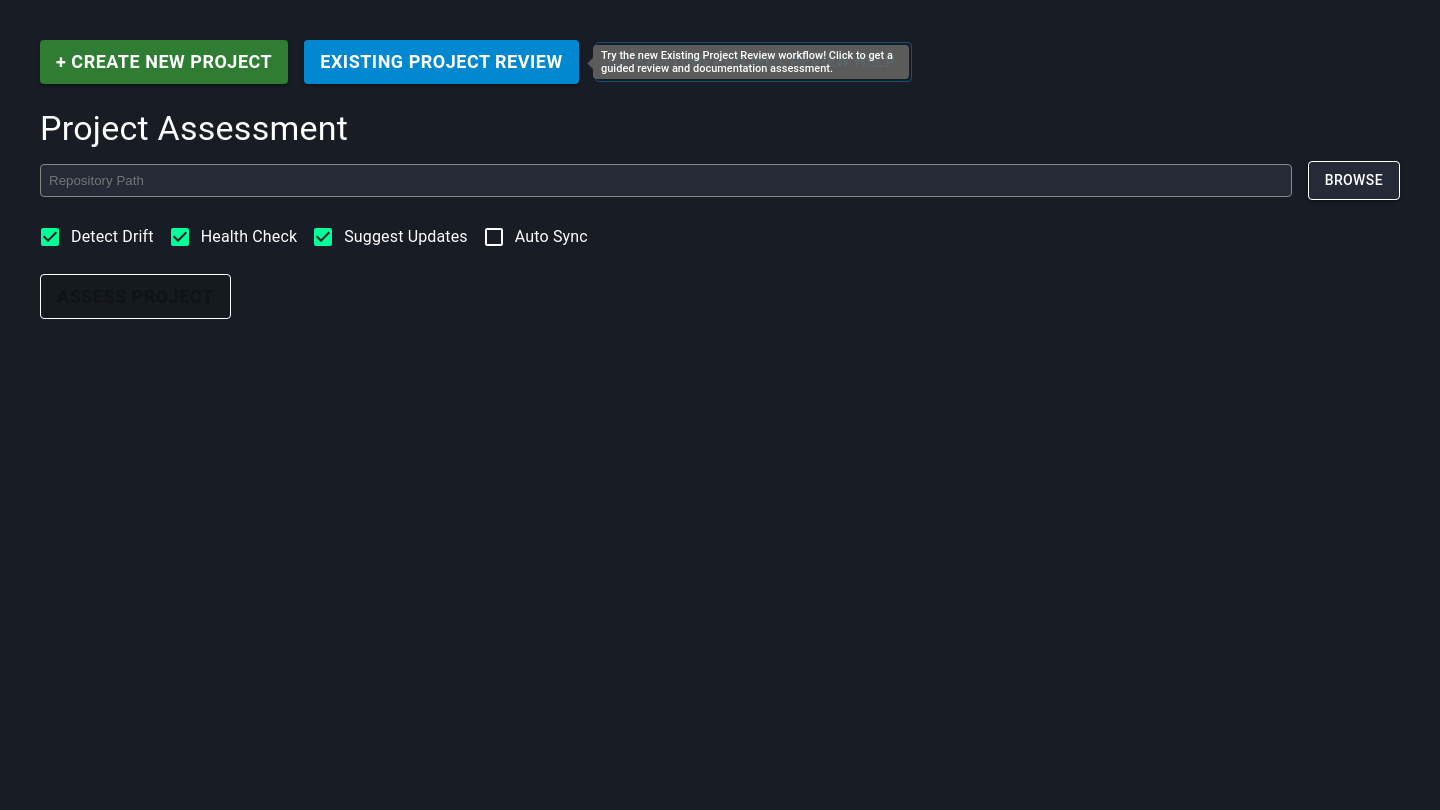
Test: App UI › shows onboarding tooltip for Existing Project Review button and hides after click
This screenshot has width=1440, height=810.
Expected: the text "Try the new Existing Project Review workflow" is shown, [601,49,893,75]
# Click the button (should hide tooltip)
What coordinates should you click on to do the following:
click the button with test id "open-existing-project-review-btn"
I would click on:
 (442, 62)
Its box is [304,40,579,84].
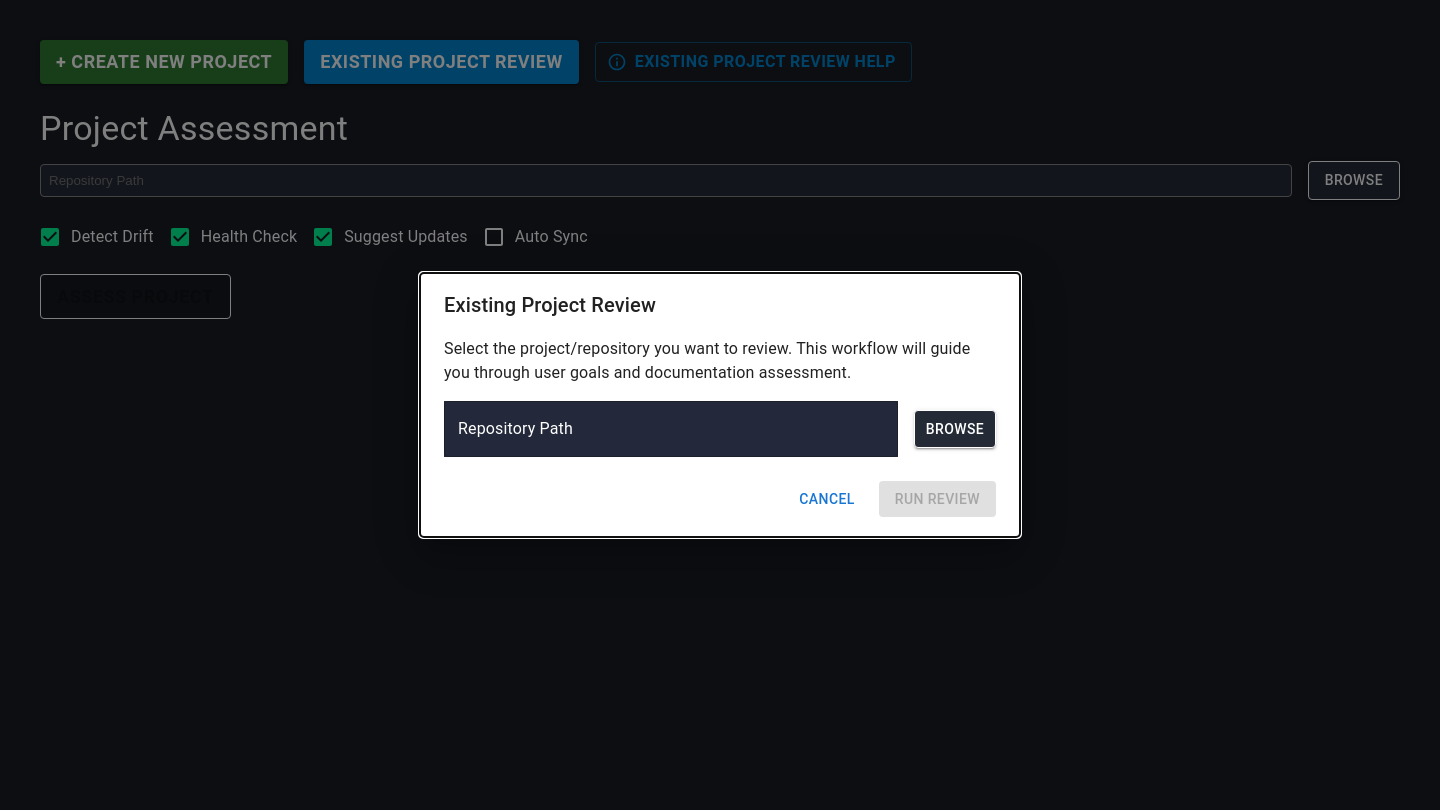
Expected: the text "Try the new Existing Project Review workflow" is gone
